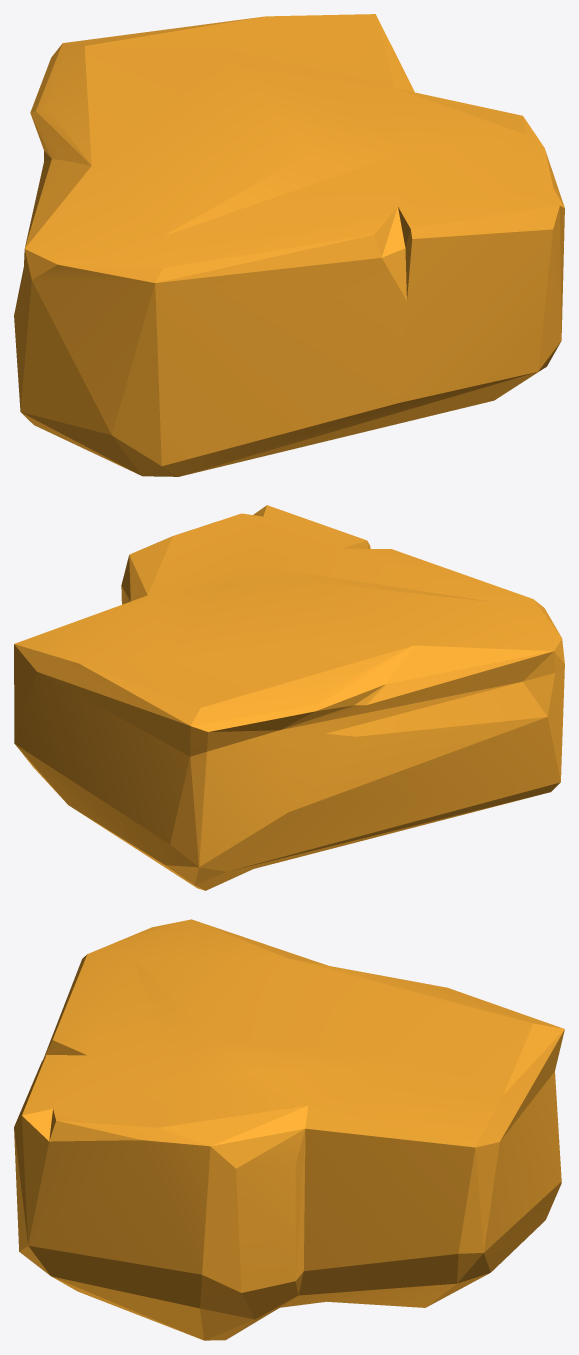
File: SM_Iceberg_Tiny_D.fbx
The picture shows the model from 3 angles, top to bottom: view 1: azimuth 30°, elevation 25°; view 2: azimuth 150°, elevation 25°; view 3: azimuth 270°, elevation 25°; orthographic projection. The views are drawn at different scales.
Parts seen in each view (by area): view 1: iceberg-tiny-d; view 2: iceberg-tiny-d; view 3: iceberg-tiny-d.
Boxes of the visible parts, <box> form: iceberg-tiny-d: <box>14,14,564,476</box>; iceberg-tiny-d: <box>14,505,564,890</box>; iceberg-tiny-d: <box>14,919,564,1340</box>.
Size of the model in its own units: 0.3547 by 0.192 by 0.3561.
